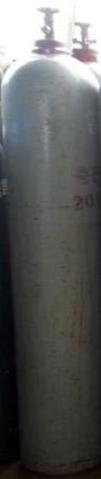cylinder: (0, 1, 101, 479)
